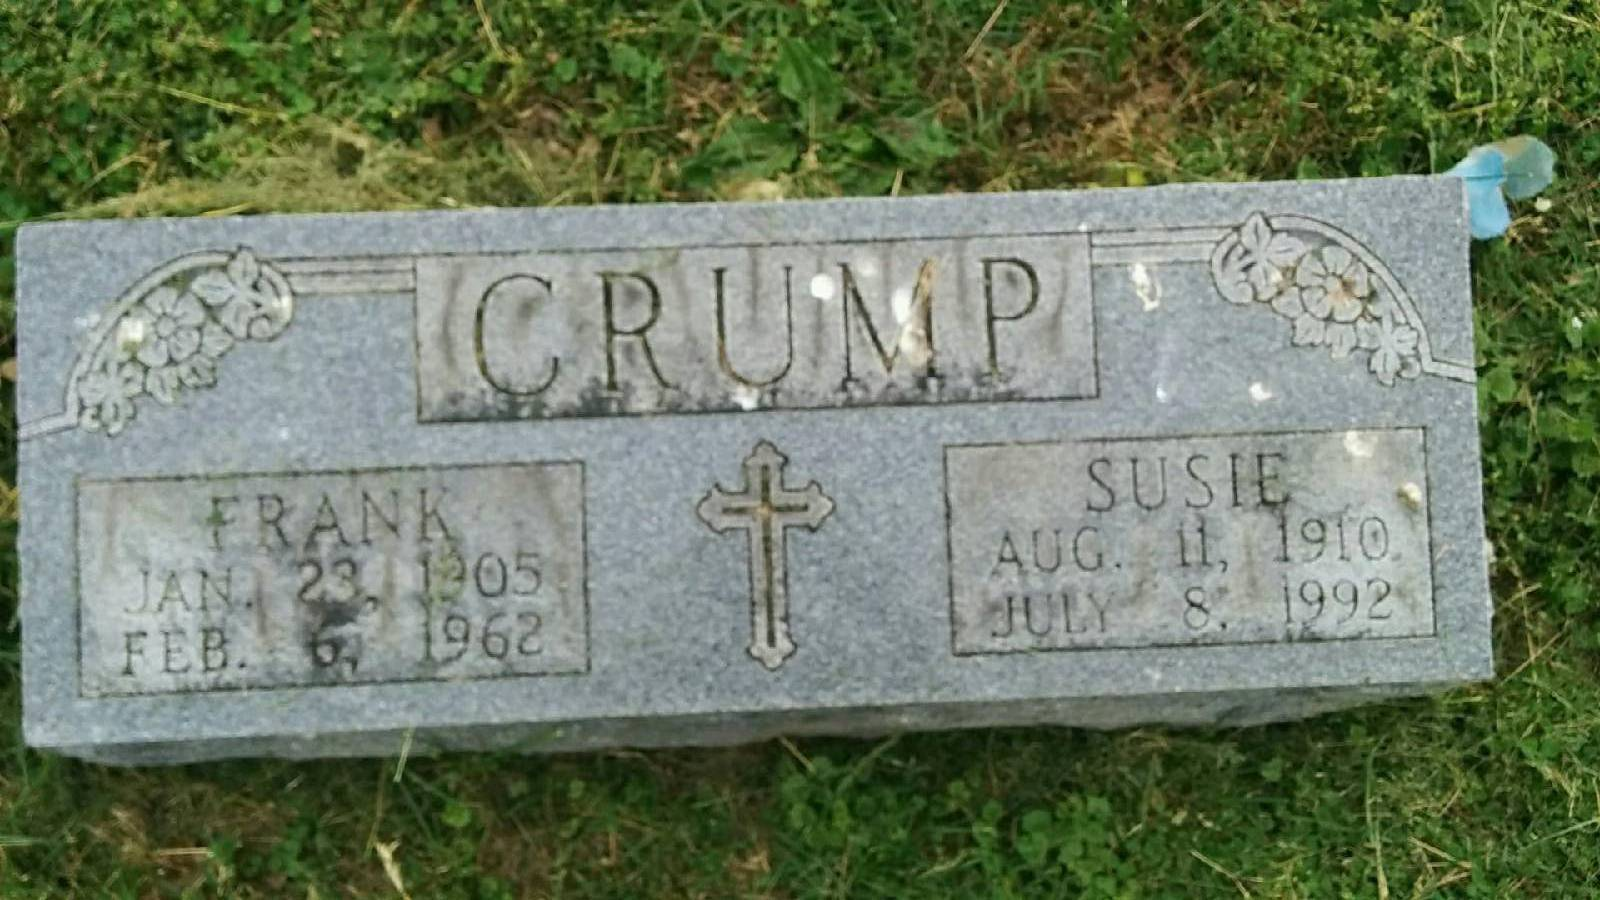flat: (15, 173, 1501, 766)
